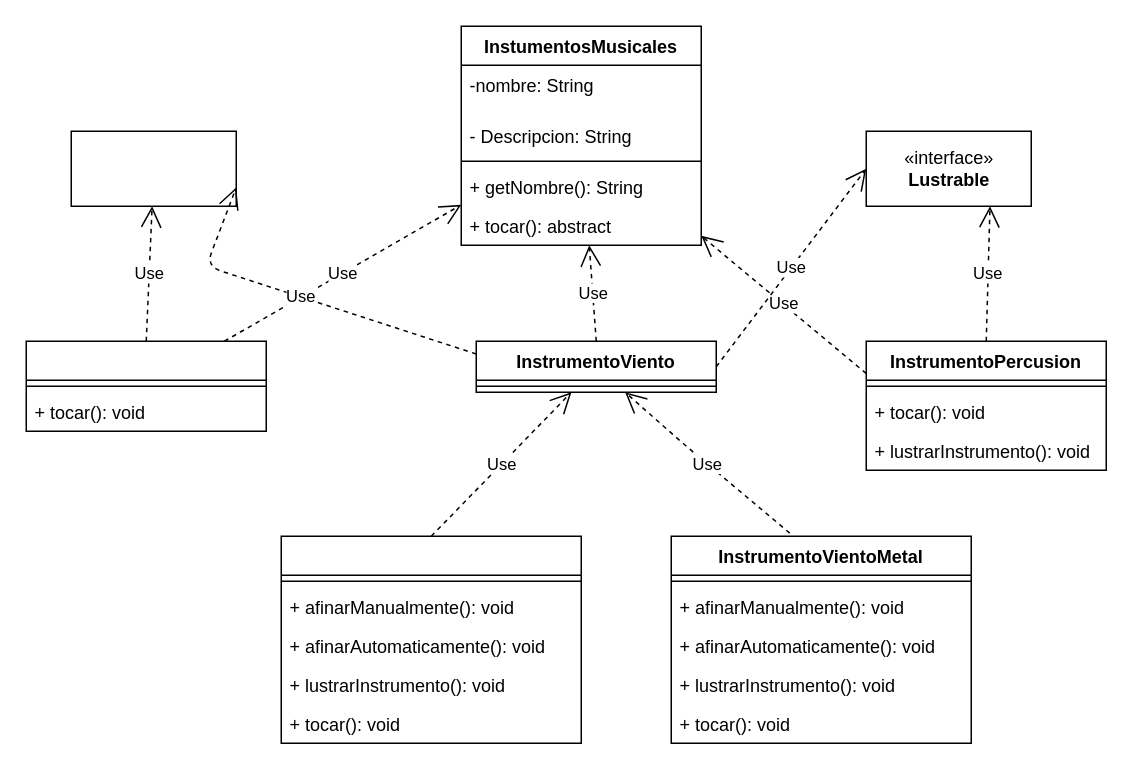
Image size: 1133x774. Some labels were removed from this diagram. The box of each missing label's shape, as (x1, y1, x2, y2) in pixels:
InstrumentoCuerda: (25, 340, 266, 431)
InstrumentoVientoMadera: (280, 535, 581, 743)
«interface» Afinacion: (70, 130, 236, 206)
